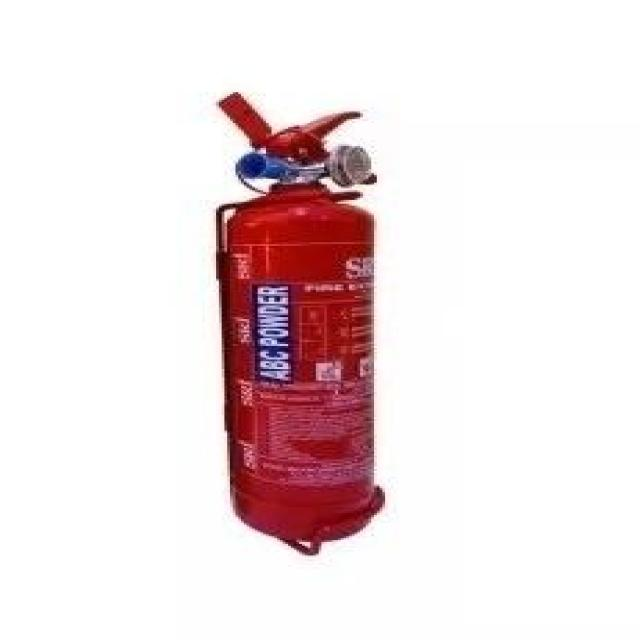fire_extinguisher: (201, 86, 392, 548)
